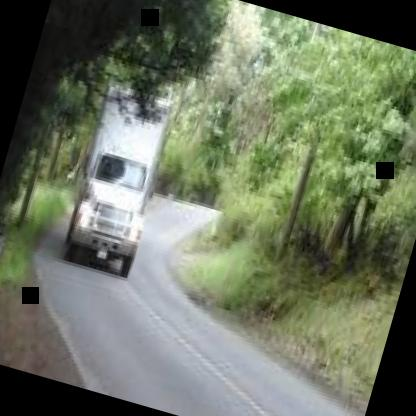car: (47, 59, 192, 295)
